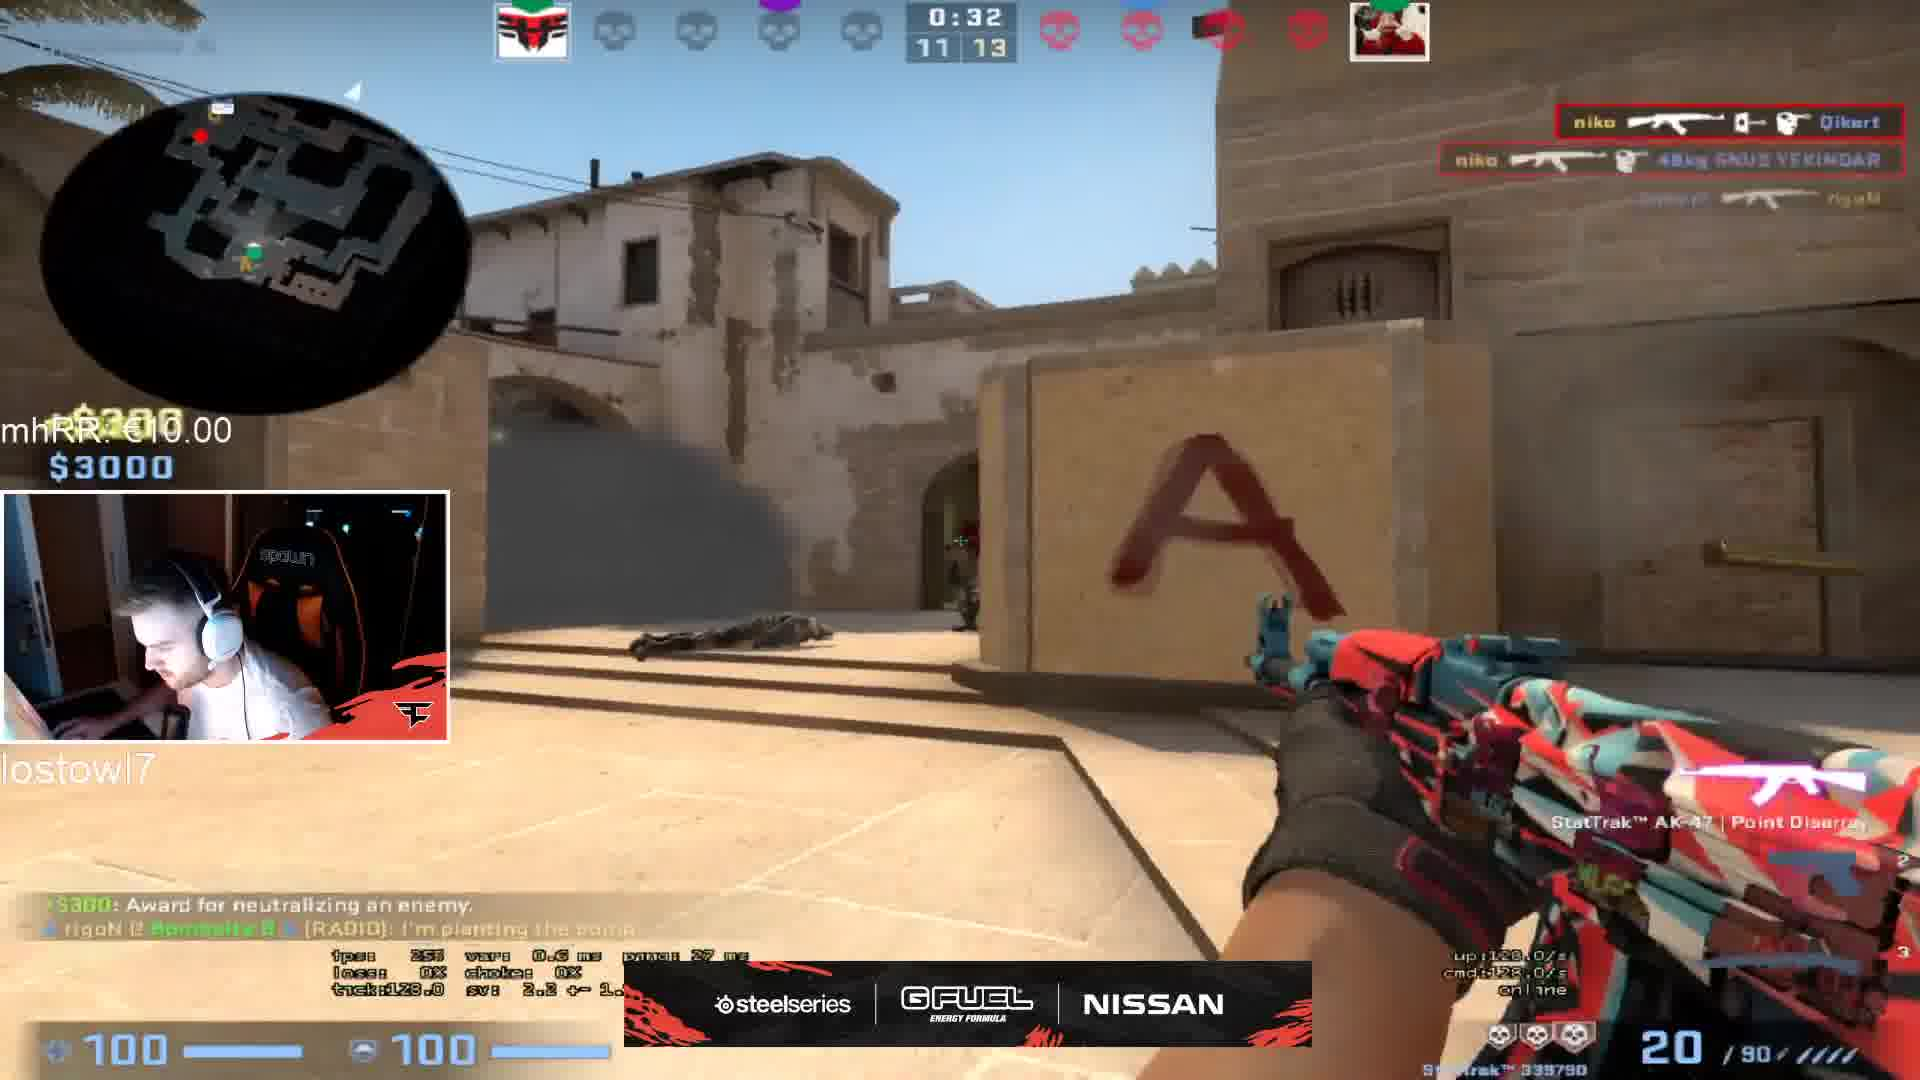enemy: (942, 541, 982, 644)
